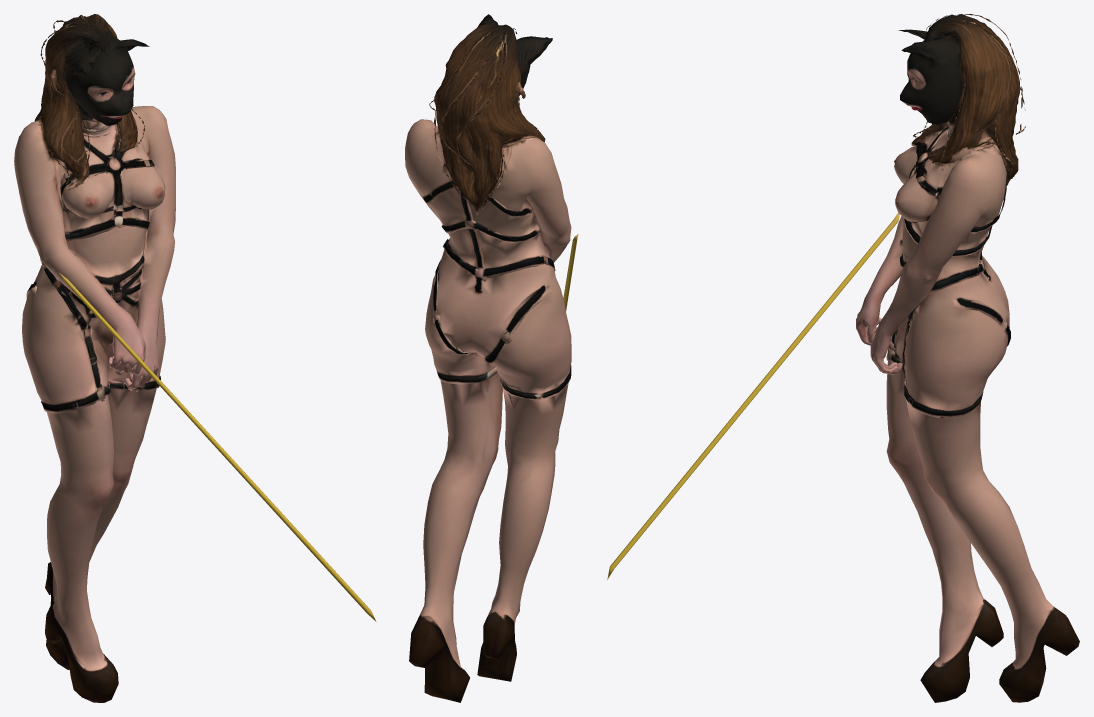
The picture shows the model from 3 angles, left to right: view 1: azimuth 30°, elevation 25°; view 2: azimuth 150°, elevation 25°; view 3: azimuth 270°, elevation 25°; orthographic projection. The views are drawn at different scales.
Visible parts, largest first — view 1: tripo_node_910eb5c9-43cb-44f2-be51-18553b6acda3; view 2: tripo_node_910eb5c9-43cb-44f2-be51-18553b6acda3; view 3: tripo_node_910eb5c9-43cb-44f2-be51-18553b6acda3.
Boxes of the visible parts, <box> form: tripo_node_910eb5c9-43cb-44f2-be51-18553b6acda3: <box>14,14,376,702</box>; tripo_node_910eb5c9-43cb-44f2-be51-18553b6acda3: <box>405,14,578,702</box>; tripo_node_910eb5c9-43cb-44f2-be51-18553b6acda3: <box>607,14,1079,702</box>.
Size of the model in its own units: 0.4757 by 1.7 by 1.07.
1 material, 1 textured.
